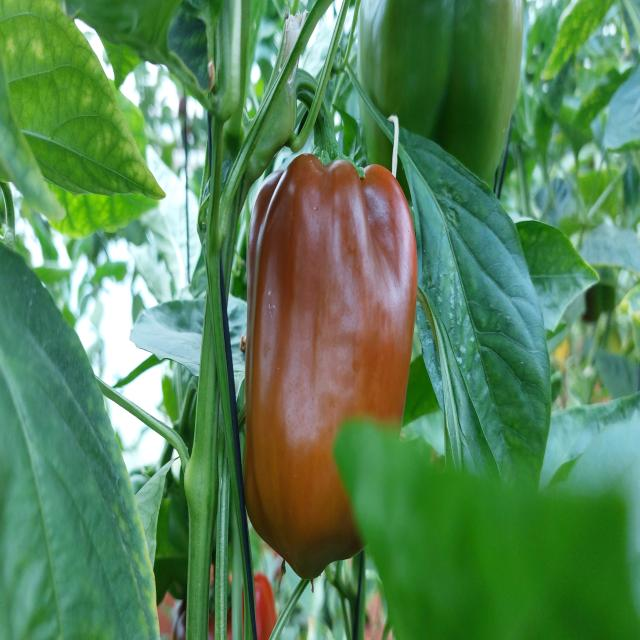BrownishRed--Can-be-Harvested: (241, 145, 425, 573)
